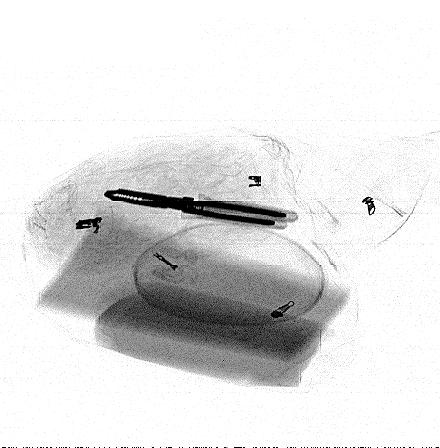Pliers: (103, 187, 289, 225)
